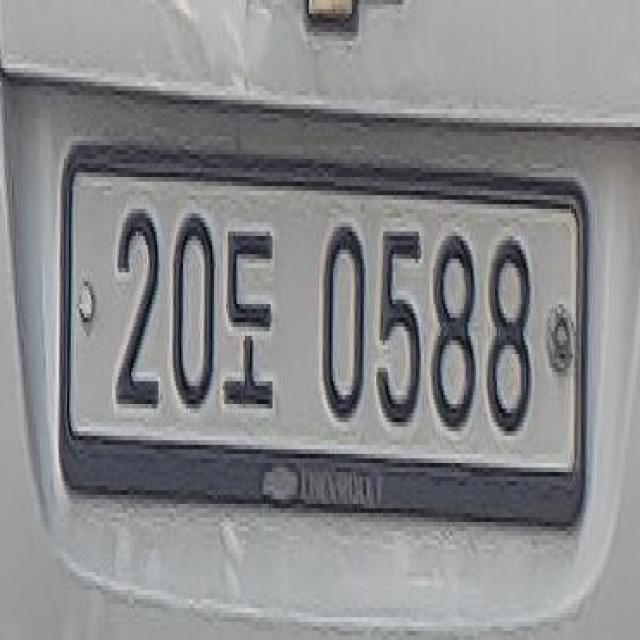plat: (56, 138, 590, 526)
